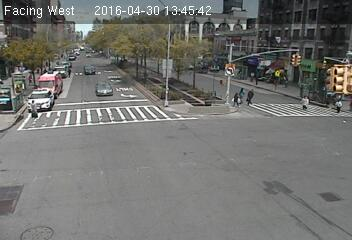neg: (50, 159, 80, 198), (268, 171, 296, 208), (177, 143, 202, 176), (120, 166, 144, 198), (227, 41, 250, 71), (305, 186, 327, 217), (195, 96, 217, 127), (21, 31, 42, 58), (166, 61, 185, 85), (93, 75, 110, 98), (15, 136, 32, 159), (13, 60, 29, 81), (264, 60, 279, 80), (101, 46, 115, 65), (140, 49, 153, 66), (143, 74, 156, 91), (2, 90, 15, 107), (119, 55, 130, 71), (82, 46, 88, 54)
pos: (26, 98, 40, 117), (301, 93, 314, 111), (247, 87, 260, 103), (229, 93, 241, 109), (334, 99, 344, 112), (237, 85, 244, 95)
